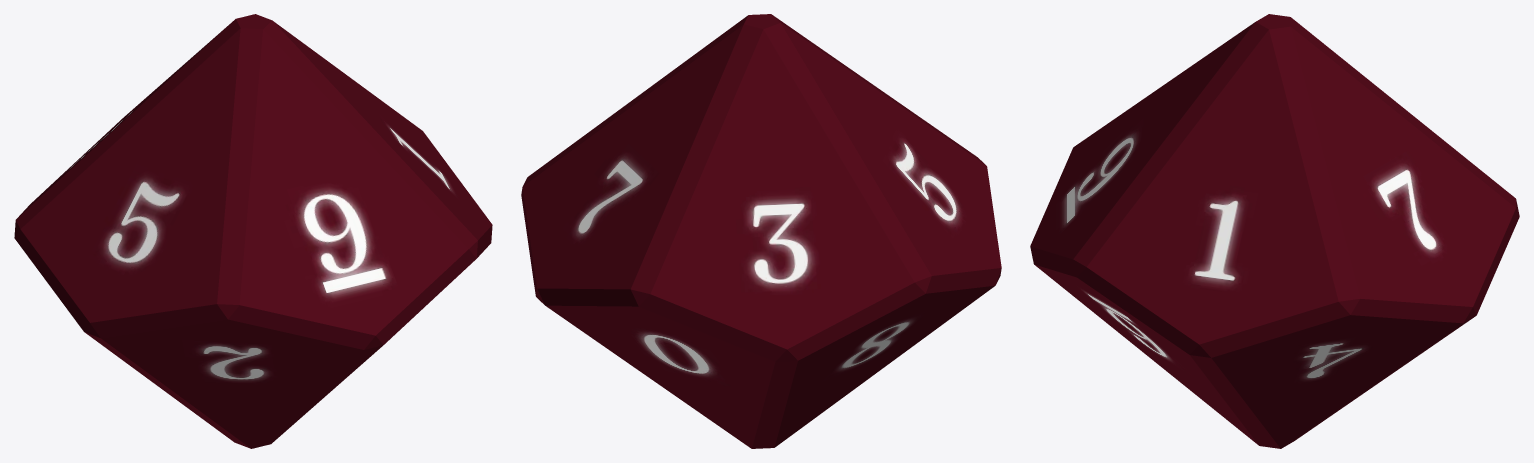
Rendered from D10Disadvantage.glb.
3 views of the same model, side by side, from view 1: azimuth 30°, elevation 25°; view 2: azimuth 150°, elevation 25°; view 3: azimuth 270°, elevation 25° (orthographic).
Visible parts, largest first — view 1: D10Disadvantage; view 2: D10Disadvantage; view 3: D10Disadvantage.
Boxes of the visible parts, x1,y1,x2,y2 form: D10Disadvantage: [14, 14, 492, 448]; D10Disadvantage: [521, 14, 1001, 448]; D10Disadvantage: [1030, 14, 1519, 448].
Bounding box in the file's own units: 2.95 × 2.93 × 3.1.
Materials: 1 (1 with a texture image).
